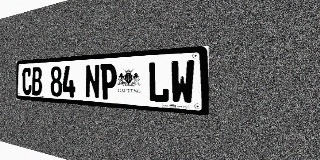4: (62, 65, 75, 98)
8: (50, 66, 62, 97)
B: (32, 67, 42, 96)
C: (22, 67, 32, 95)
L: (148, 61, 170, 103)
N: (85, 64, 100, 99)
P: (100, 63, 117, 100)
W: (170, 59, 195, 105)
